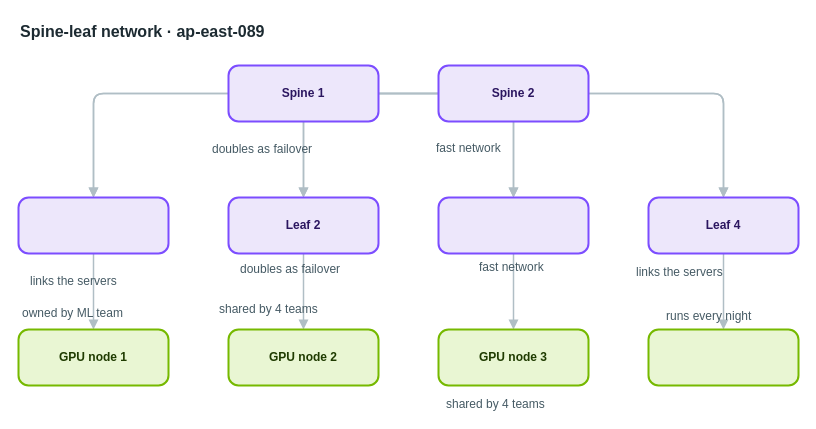
The diagram is 816 pixels wide and 429 high, and some of its shapes have lost their labels. Each missing label, with the centre of its shape:
GPU node 4: the point at 723,357
Leaf 1: the point at 93,225
Leaf 3: the point at 513,225
